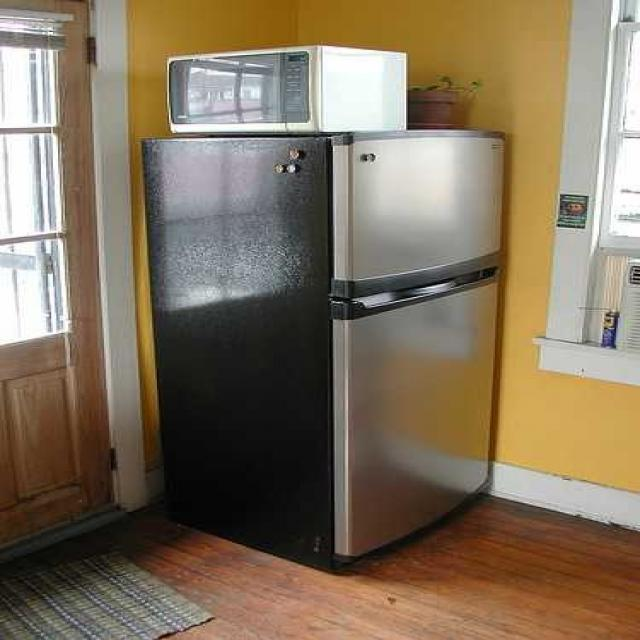refrigerator: (318, 131, 504, 565)
